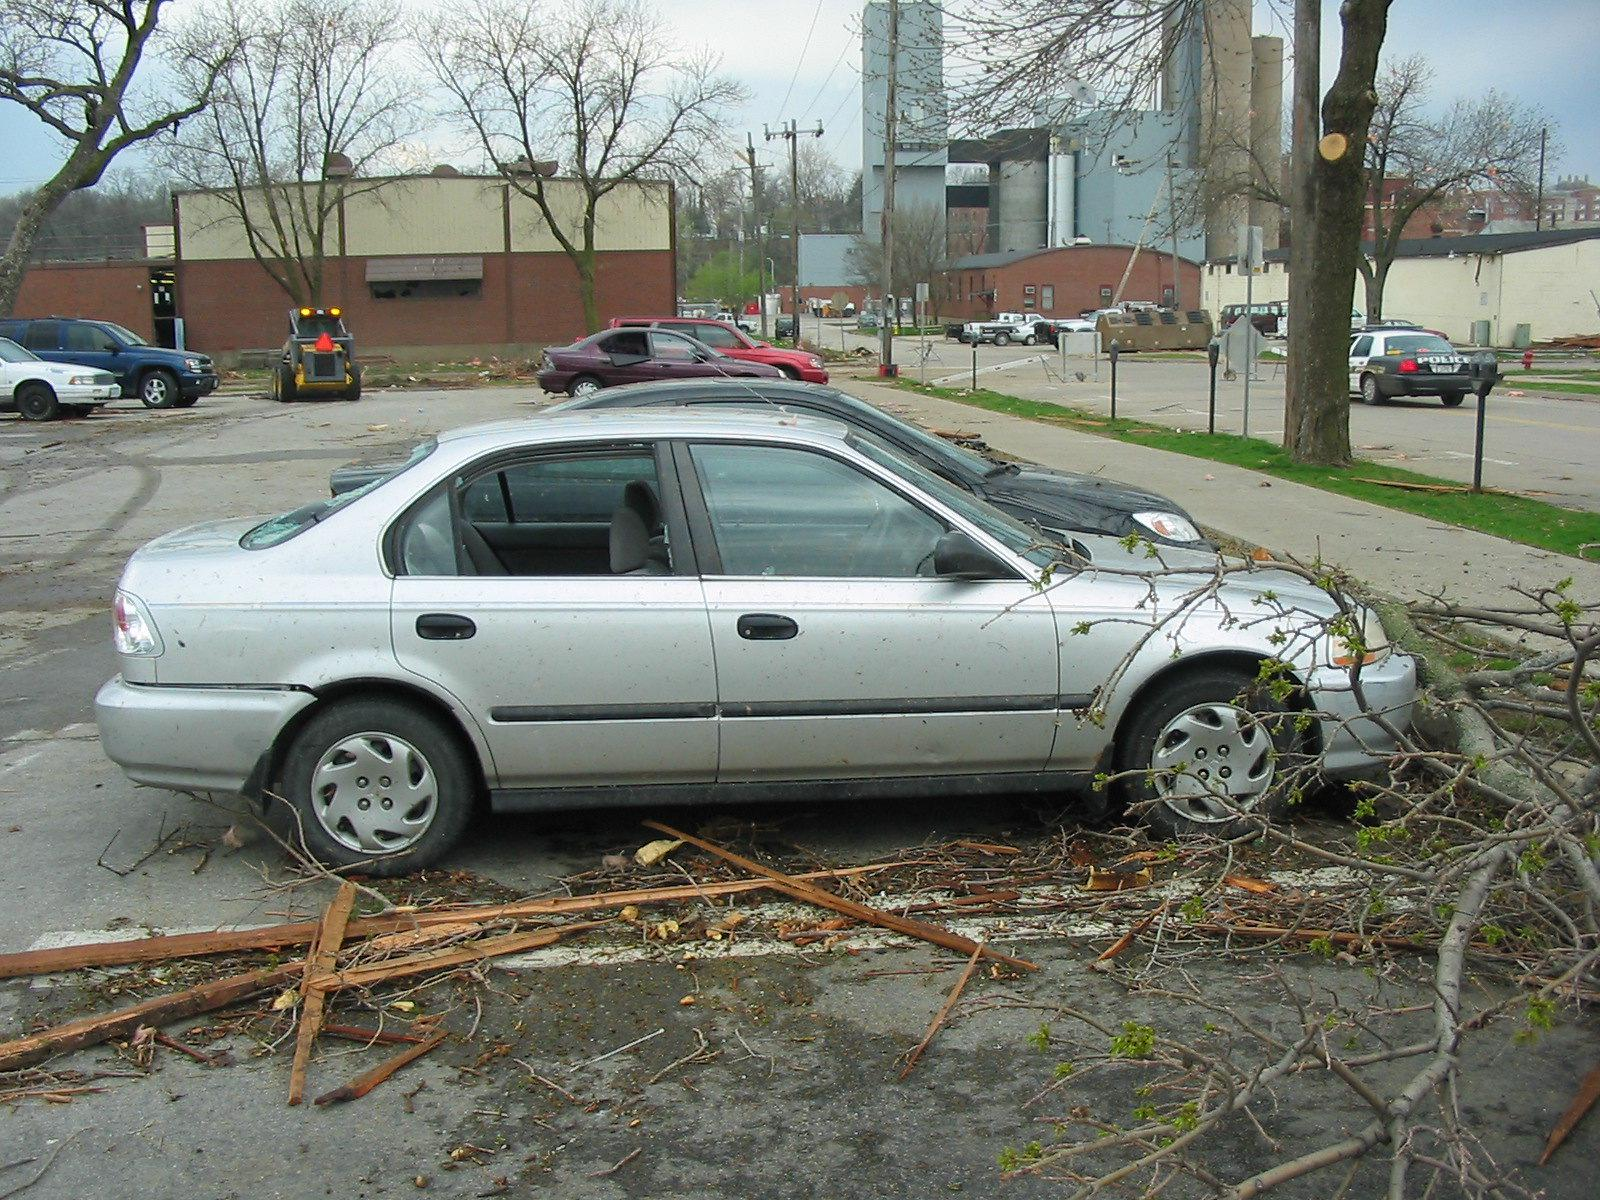doorouter-dent: (721, 610, 1076, 823)
